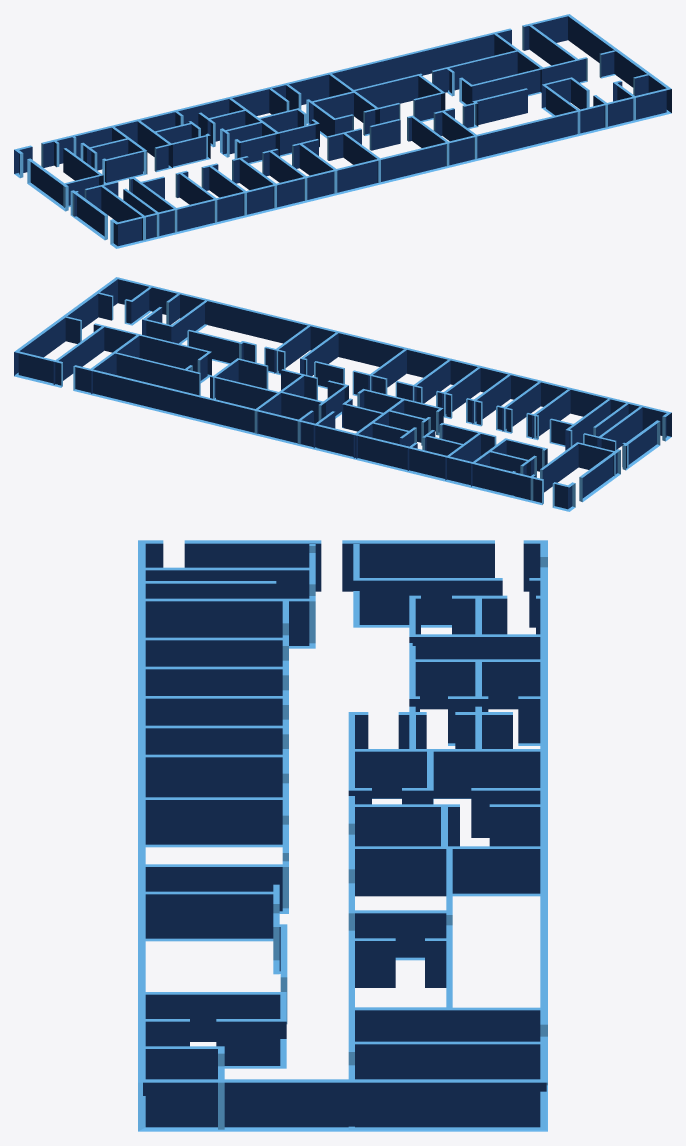
Rendered from louceng.obj.
3 renders of one model, top to bottom at view 1: azimuth 30°, elevation 25°; view 2: azimuth 150°, elevation 25°; view 3: azimuth 270°, elevation 25°, orthographic. The views are drawn at different scales.
Size of the model in its own units: 503 by 21.14 by 161.
